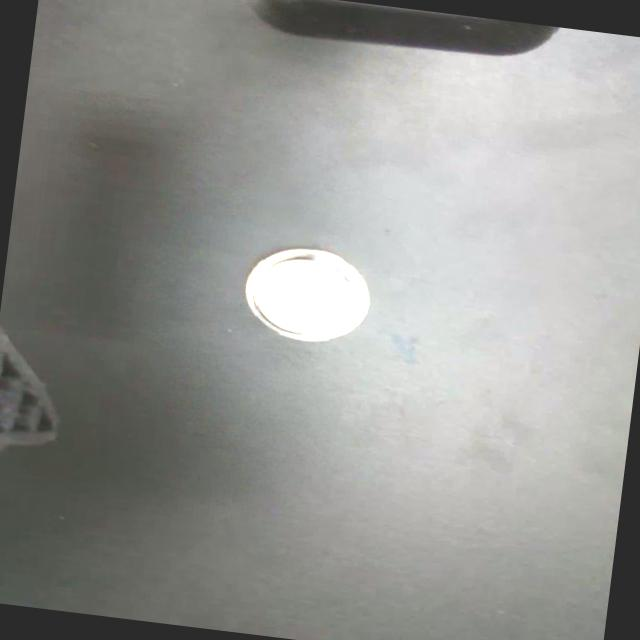sensor: (238, 240, 377, 350)
